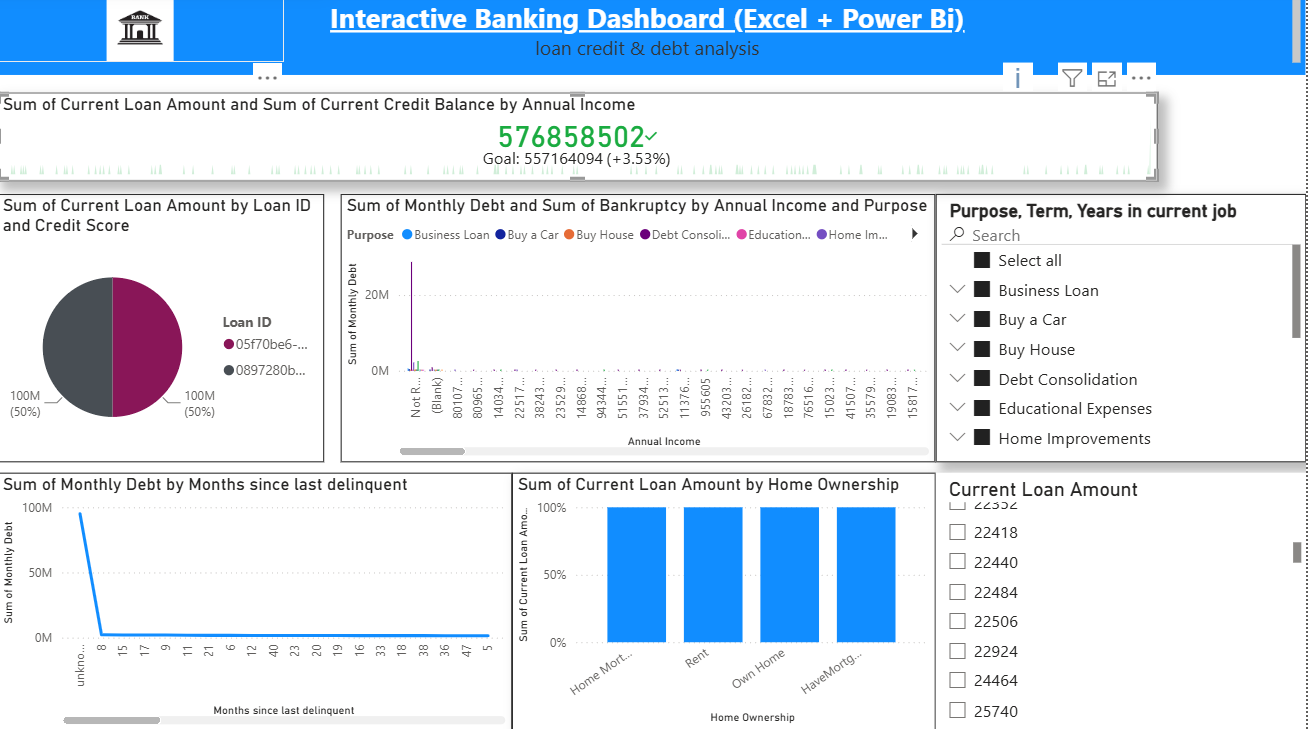

The page's visual inventory and layout, read from the dashboard file:
{"tool":"powerbi","page":{"name":"Page 1","canvas":[1280,720],"ordinal":0},"visuals":[{"type":"textbox","box":[0,0,1280.3,79.6],"z":1},{"type":"image","box":[0,0,279.9,65.9],"z":2},{"type":"kpi","fields":{"TrendLine":["credit_test (2).Annual Income"],"Indicator":["Sum(credit_test (2).Current Loan Amount)"],"Goal":["Sum(credit_test (2).Current Credit Balance)"]},"box":[0,96.1,1134.8,86.4],"z":5},{"type":"pieChart","fields":{"Category":["credit_test (2).Loan ID"],"Y":["Sum(credit_test (2).Current Loan Amount)"],"Series":["credit_test (2).Credit Score"]},"box":[0,196.2,319.7,262.1],"z":6},{"type":"clusteredColumnChart","fields":{"Y":["Sum(credit_test (2).Monthly Debt)"],"Category":["credit_test (2).Annual Income"],"Series":["credit_test (2).Purpose"]},"box":[336.2,196.2,581.8,262.1],"z":7},{"type":"lineChart","fields":{"Y":["Sum(credit_test (2).Monthly Debt)"],"Category":["credit_test (2).Months since last delinquent"]},"box":[0,467.9,503.6,252.5],"z":8},{"type":"hundredPercentStackedColumnChart","fields":{"Category":["credit_test (2).Home Ownership"],"Y":["Sum(credit_test (2).Current Loan Amount)"]},"box":[504,468,414,252],"z":9},{"type":"slicer","fields":{"Values":["credit_test (2).Purpose","credit_test (2).Term","credit_test (2).Years in current job"]},"box":[918,196.2,362.3,262.1],"z":10},{"type":"slicer","fields":{"Values":["credit_test (2).Current Loan Amount"]},"box":[918,467.9,362.3,252.5],"z":11}]}

Visuals, with their boxes in screenshot pixels (x1, y1, x2, y2):
textbox: (x1=0, y1=0, x2=1306, y2=72)
image: (x1=0, y1=0, x2=272, y2=58)
kpi - credit_test (2).Annual Income x Sum(credit_test (2).Current Loan Amount): (x1=0, y1=89, x2=1156, y2=178)
pieChart - credit_test (2).Loan ID x Sum(credit_test (2).Current Loan Amount): (x1=0, y1=193, x2=313, y2=463)
clusteredColumnChart - Sum(credit_test (2).Monthly Debt) x credit_test (2).Annual Income: (x1=330, y1=193, x2=932, y2=463)
lineChart - Sum(credit_test (2).Monthly Debt) x credit_test (2).Months since last delinquent: (x1=0, y1=473, x2=503, y2=728)
hundredPercentStackedColumnChart - credit_test (2).Home Ownership x Sum(credit_test (2).Current Loan Amount): (x1=504, y1=473, x2=932, y2=728)
slicer - credit_test (2).Purpose x credit_test (2).Term: (x1=932, y1=193, x2=1306, y2=463)
slicer - credit_test (2).Current Loan Amount: (x1=932, y1=473, x2=1306, y2=728)
